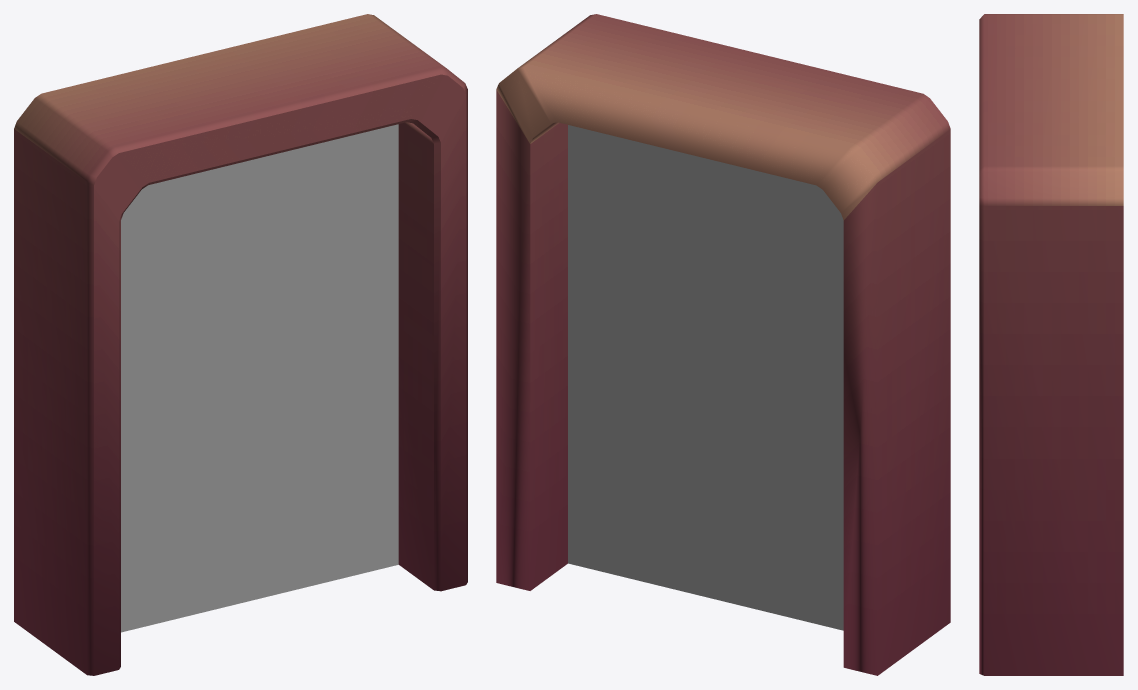
Rendered from Door_01.fbx.
The picture shows the model from 3 angles, left to right: view 1: azimuth 30°, elevation 25°; view 2: azimuth 150°, elevation 25°; view 3: azimuth 270°, elevation 25°; orthographic projection. The views are drawn at different scales.
Parts seen in each view (by area): view 1: Doot_01; view 2: Doot_01; view 3: Doot_01.
Part boxes in pixels (x1,y1,x2,y2): Doot_01: [14, 14, 467, 675]; Doot_01: [496, 14, 950, 675]; Doot_01: [979, 14, 1123, 675].
Bounding box in the file's own units: 2.65 × 3.47 × 0.911.
Materials: 2 (1 with a texture image).
